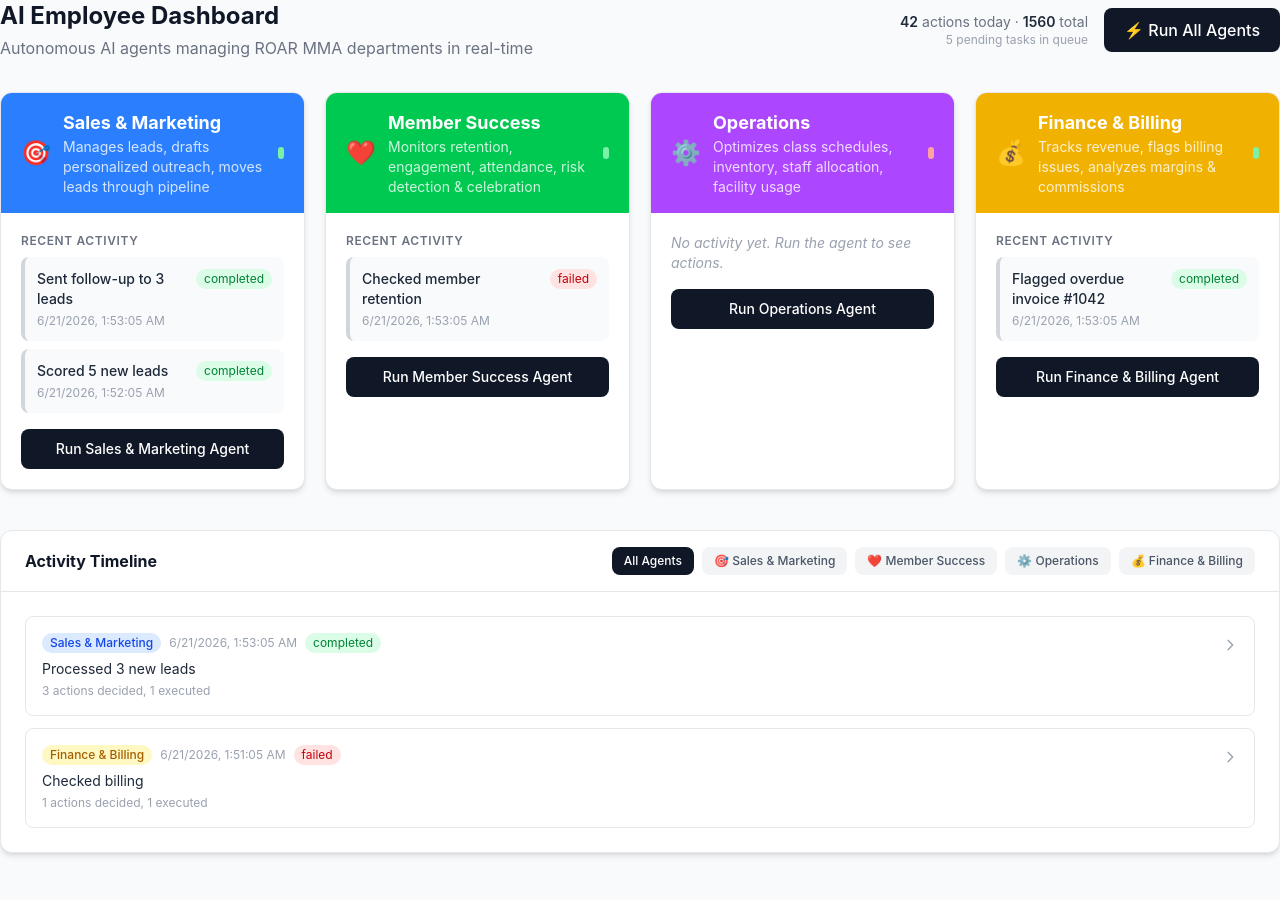
Test: AgentTracking › closes drawer when clicking close button
The image size is (1280, 900).
Step 1. Click the text "Processed 3 new leads" → point(119, 668), box top-left (42, 660), bottom-right (196, 677)
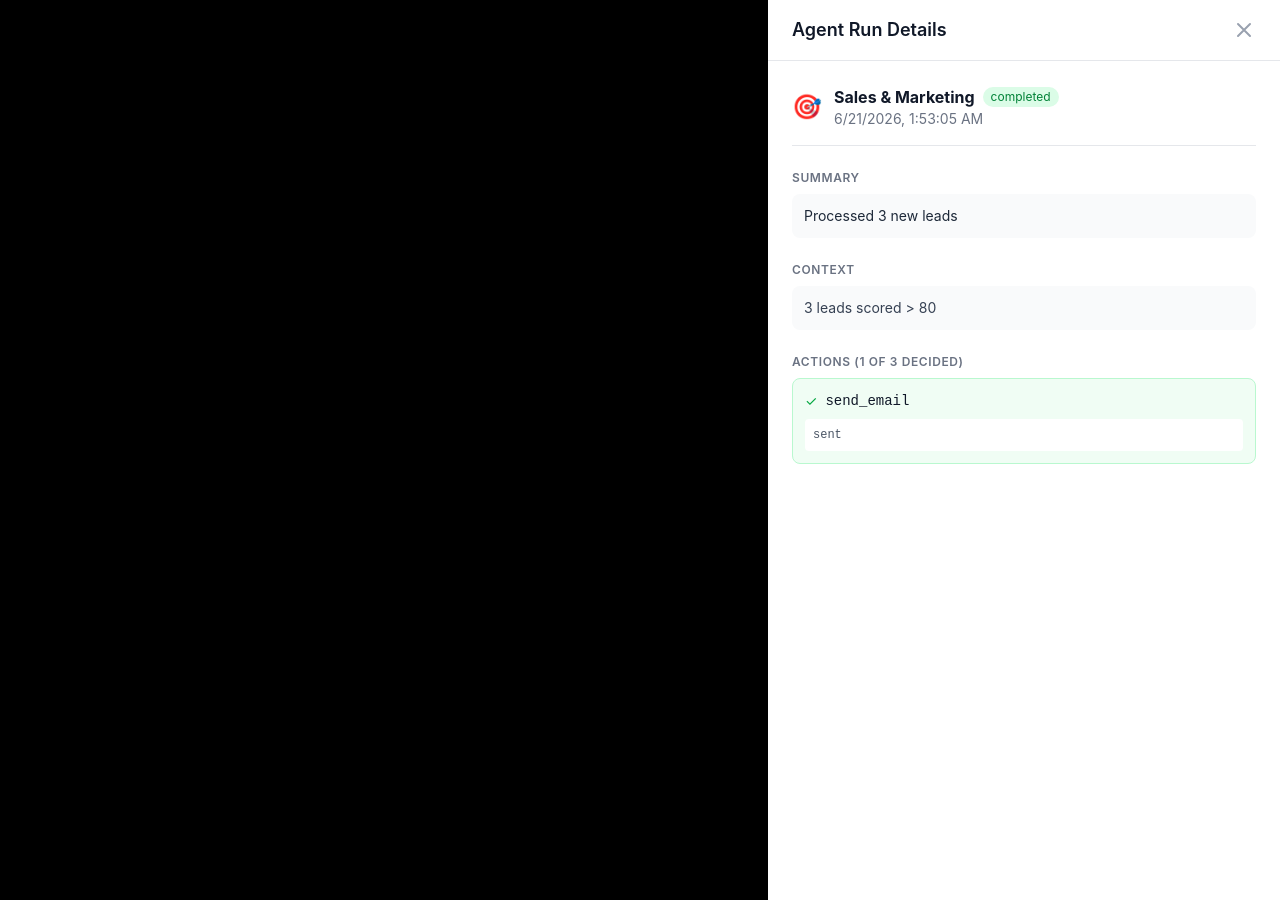
Expected: the heading "Agent Run Details" is shown, top-left (792, 16), bottom-right (947, 44)
Step 2. Click the button named "Close drawer" → point(1244, 30), box top-left (1232, 18), bottom-right (1256, 42)
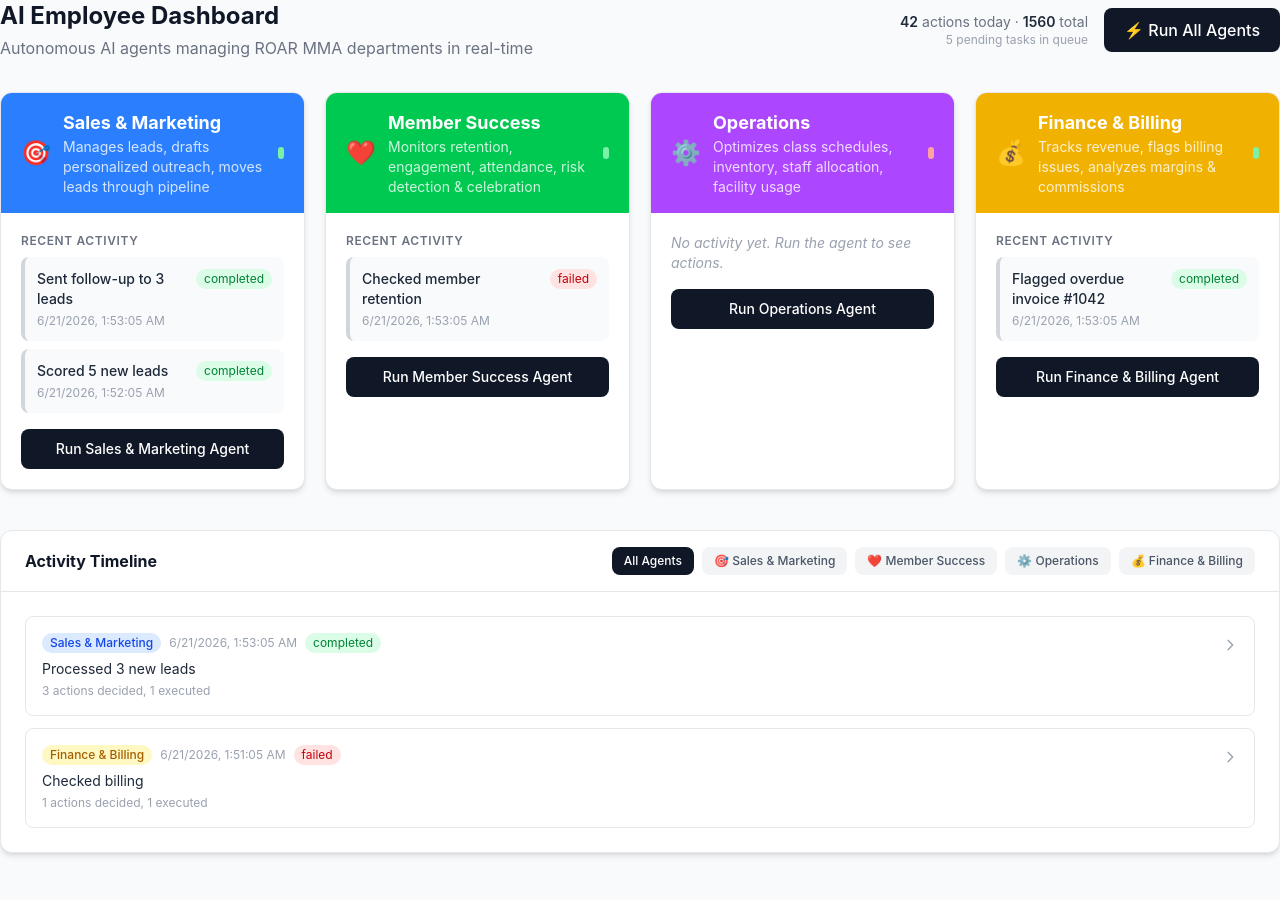
Expected: the heading "Agent Run Details" is gone
